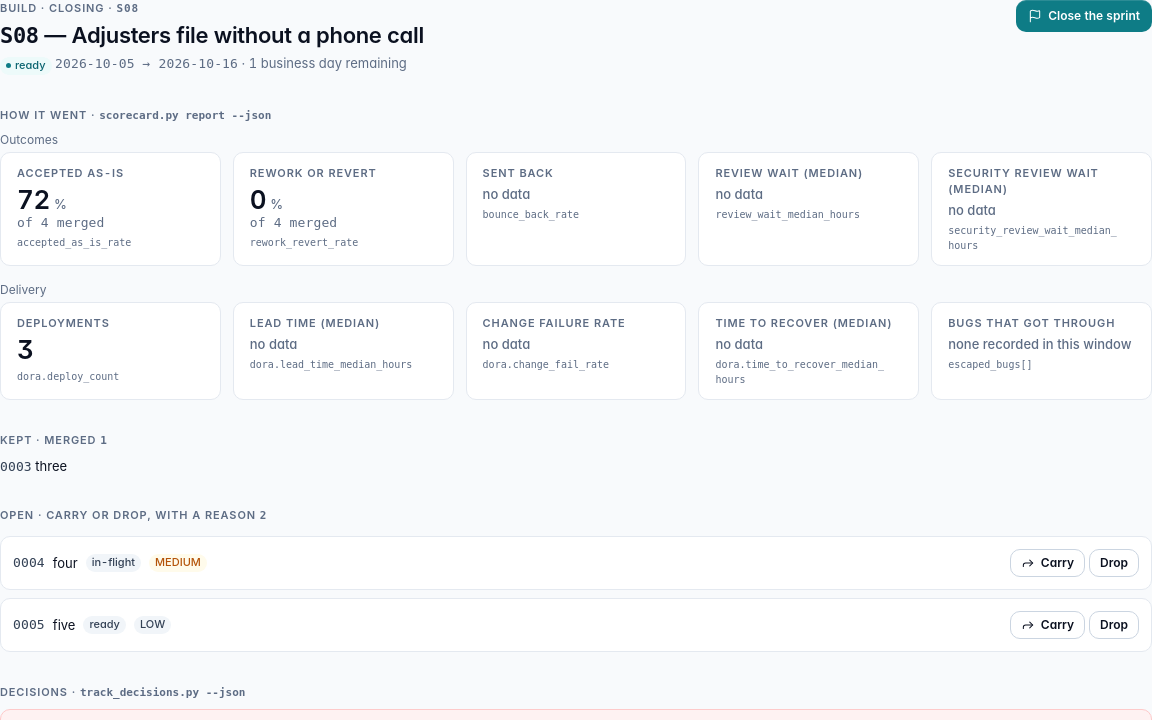
Test: SprintClose › an exit 1 shows the plugin's text under "Not done" and renders no review page
The width and height of the screenshot is (1152, 720).
Expected: the element with test id "close-outcomes" is shown, left=0, top=106, right=1151, bottom=400
Click the button "Close the sprint".
click(1084, 16)  # box left=1016, top=0, right=1151, bottom=32
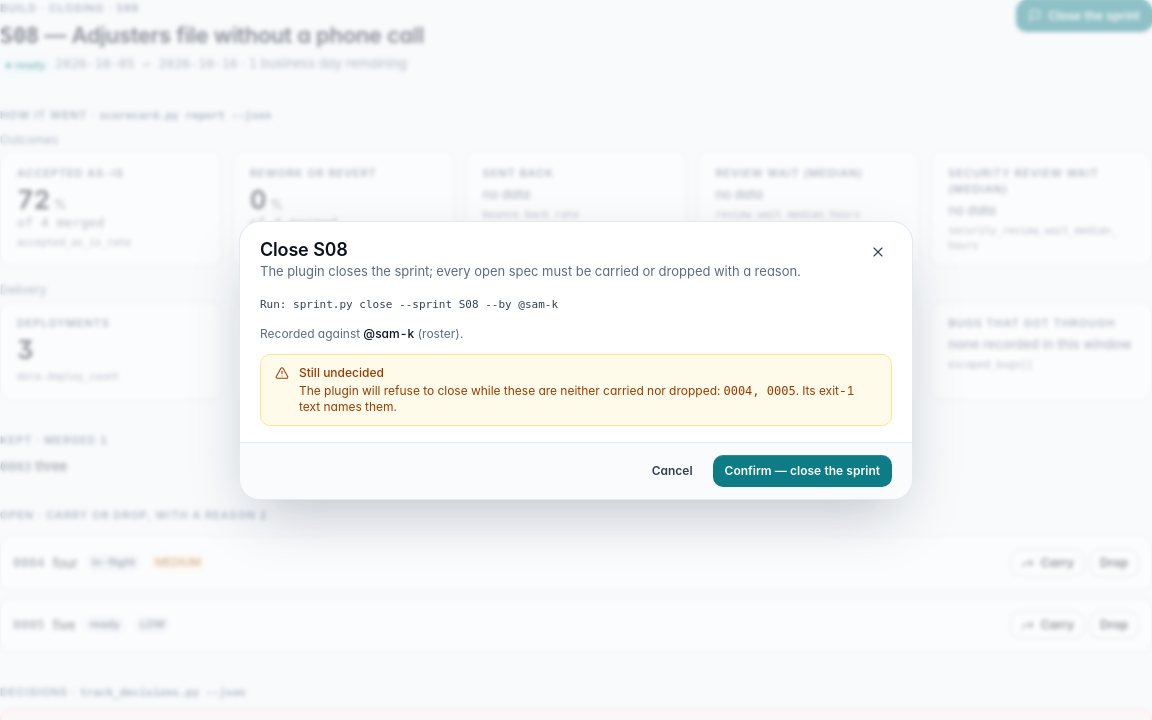
Click the button "Confirm — close the sprint".
click(802, 470)  # box left=713, top=454, right=892, bottom=486
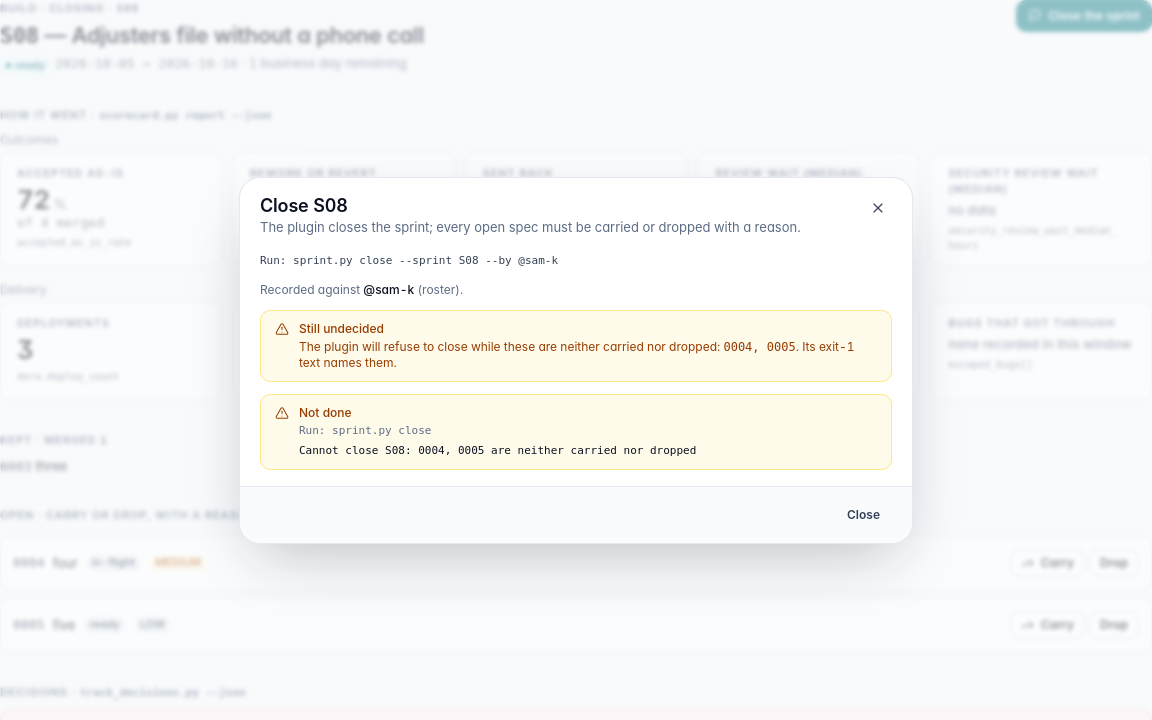
Result: the text "Not done" is shown at left=299, top=404, right=352, bottom=420
Result: the text "Cannot close S08: 0004, 0005 are neither carried nor dropped" is shown at left=299, top=444, right=696, bottom=456
